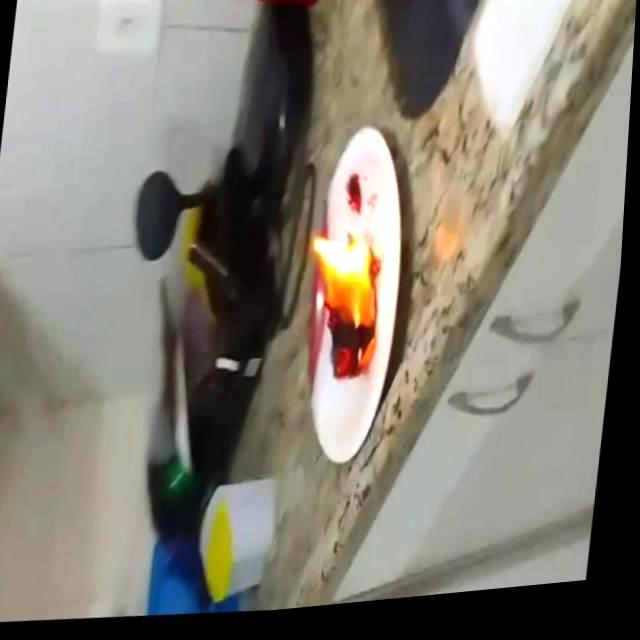fire: (297, 230, 395, 398)
